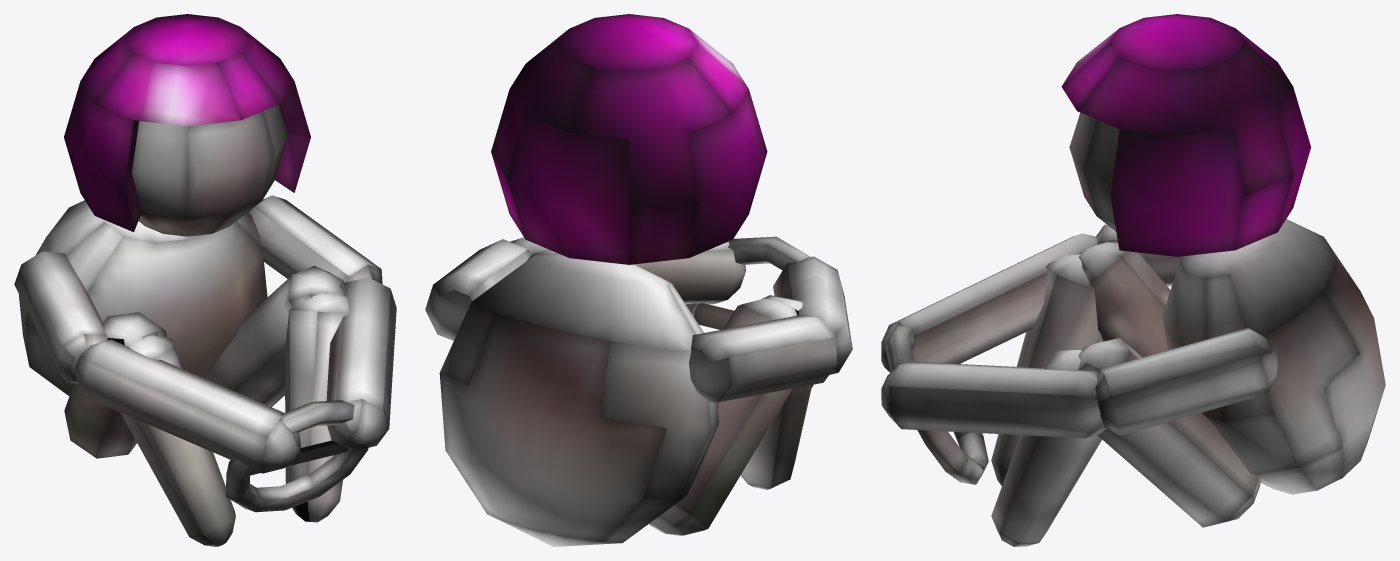
The model's file is stuntman_cannonball.obj.
3 views of the same model, side by side, from view 1: azimuth 30°, elevation 25°; view 2: azimuth 150°, elevation 25°; view 3: azimuth 270°, elevation 25° (orthographic). The views are drawn at different scales.
Parts seen in each view (by area): view 1: Object016; view 2: Object016; view 3: Object016.
Boxes of the visible parts, x1=… form: Object016: x1=14, y1=14, x2=396, y2=546; Object016: x1=425, y1=14, x2=852, y2=546; Object016: x1=881, y1=14, x2=1385, y2=546.
Size of the model in its own units: 6.97 by 9.26 by 8.6.
Materials: 1 (1 with a texture image).
